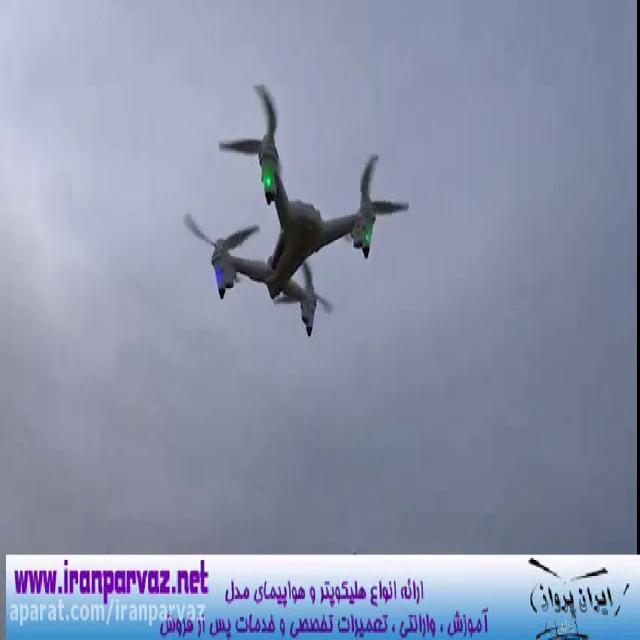drone: (179, 78, 414, 340)
